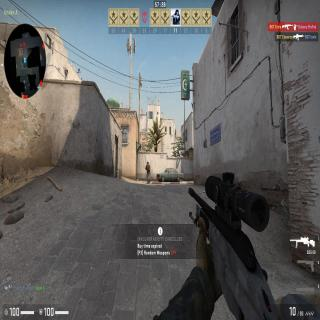T-Body: (145, 162, 151, 184)
T-Head: (147, 162, 149, 165)
